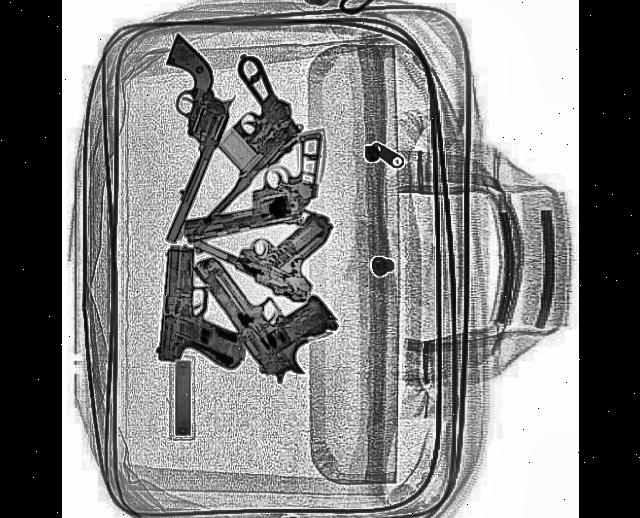Gun: (183, 201, 343, 401), (108, 33, 248, 252), (156, 49, 310, 231), (192, 175, 332, 309), (177, 132, 331, 246), (158, 244, 252, 374)
